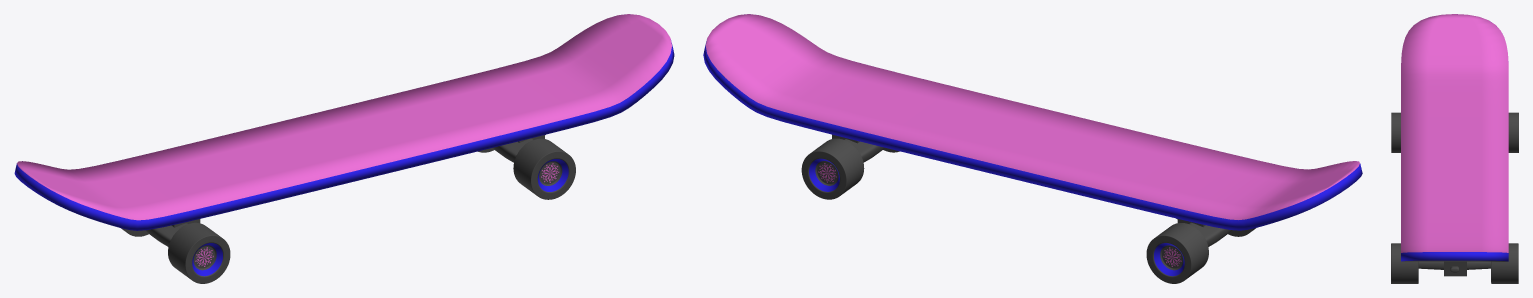
The model's file is skateboard.glb.
3 views of the same model, side by side, from view 1: azimuth 30°, elevation 25°; view 2: azimuth 150°, elevation 25°; view 3: azimuth 270°, elevation 25° (orthographic). The views are drawn at different scales.
Parts seen in each view (by area): view 1: Skateboard; view 2: Skateboard; view 3: Skateboard.
Boxes of the visible parts, box(x1,y1,x2,y2) form: Skateboard: box(14, 14, 674, 283); Skateboard: box(703, 14, 1362, 283); Skateboard: box(1391, 14, 1518, 283).
Bounding box in the file's own units: 2.68 × 0.444 × 0.6029.
